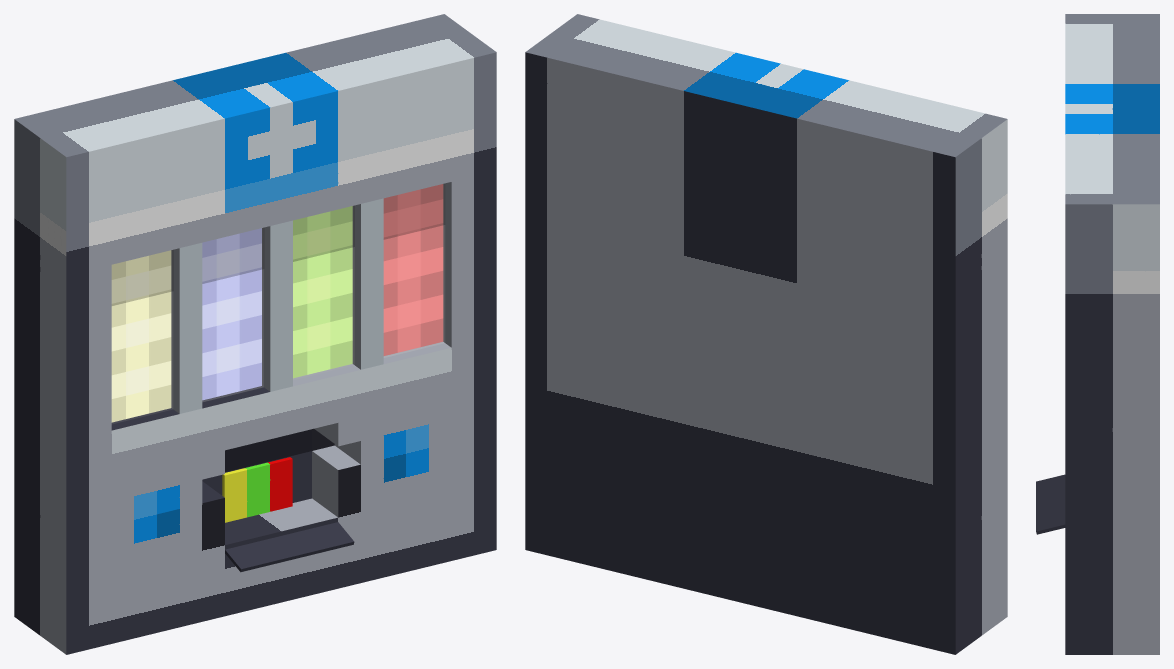
File: wall_healer_open.glb
3 views of the same model, side by side, from view 1: azimuth 30°, elevation 25°; view 2: azimuth 150°, elevation 25°; view 3: azimuth 270°, elevation 25° (orthographic). The views are drawn at different scales.
Parts seen in each view (by area): view 1: Continuous_Medical_Housing, Bar_Shadow_Overlay, Syriniver_Glass, Aiuri_Glass, Blood_Glass, Libital_Reservoir, Blood_Reservoir, Aiuri_Reservoir, Syriniver_Reservoir, Libital_Glass, Service_Contacts, Service_Cover; view 2: Continuous_Medical_Housing; view 3: Continuous_Medical_Housing, Service_Cover.
Part boxes in pixels (<box>): Continuous_Medical_Housing: <box>14,14,496,654</box>; Bar_Shadow_Overlay: <box>112,184,444,305</box>; Syriniver_Glass: <box>293,206,354,378</box>; Aiuri_Glass: <box>202,228,263,401</box>; Blood_Glass: <box>384,184,444,357</box>; Libital_Reservoir: <box>111,250,171,422</box>; Blood_Reservoir: <box>383,184,443,355</box>; Aiuri_Reservoir: <box>202,228,261,400</box>; Syriniver_Reservoir: <box>293,206,352,378</box>; Libital_Glass: <box>112,250,172,422</box>; Service_Contacts: <box>222,457,292,522</box>; Service_Cover: <box>225,522,354,572</box>; Continuous_Medical_Housing: <box>525,14,1007,654</box>; Continuous_Medical_Housing: <box>1065,14,1159,654</box>; Service_Cover: <box>1036,474,1065,534</box>.
Size of the model in its own units: 0.5344 by 0.5906 by 0.1471.
Materials: 7 (7 with a texture image).
